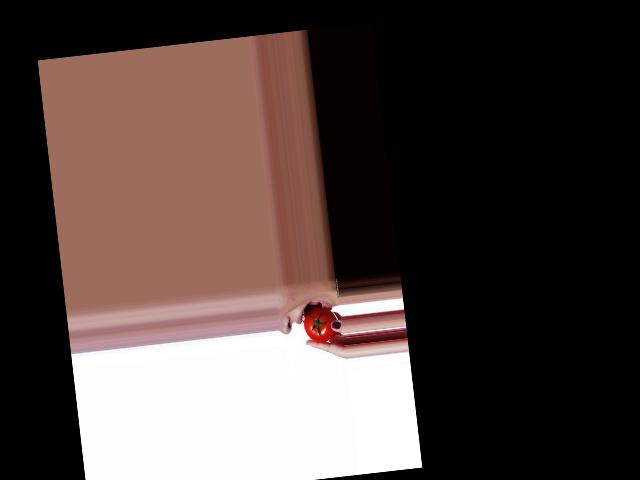tomato: (302, 306, 340, 344)
